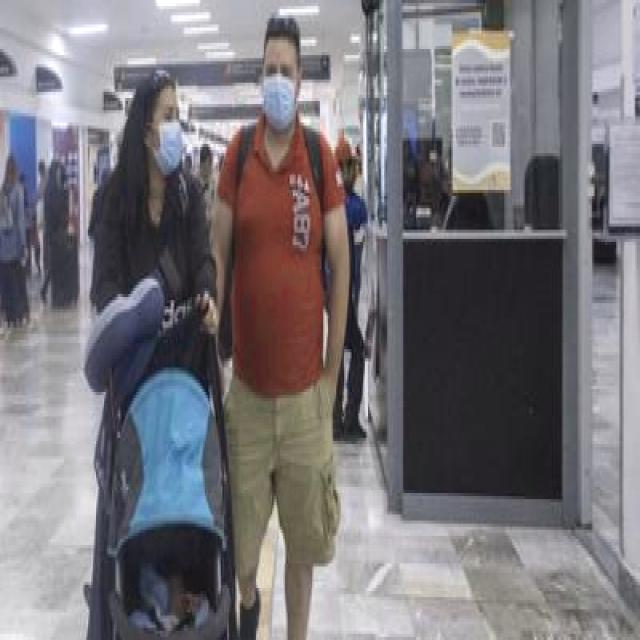face_mask: (150, 98, 184, 178), (262, 55, 296, 129)
head_nohelmet: (259, 12, 301, 61), (134, 64, 182, 104)
person: (208, 3, 350, 640), (75, 43, 229, 502)
